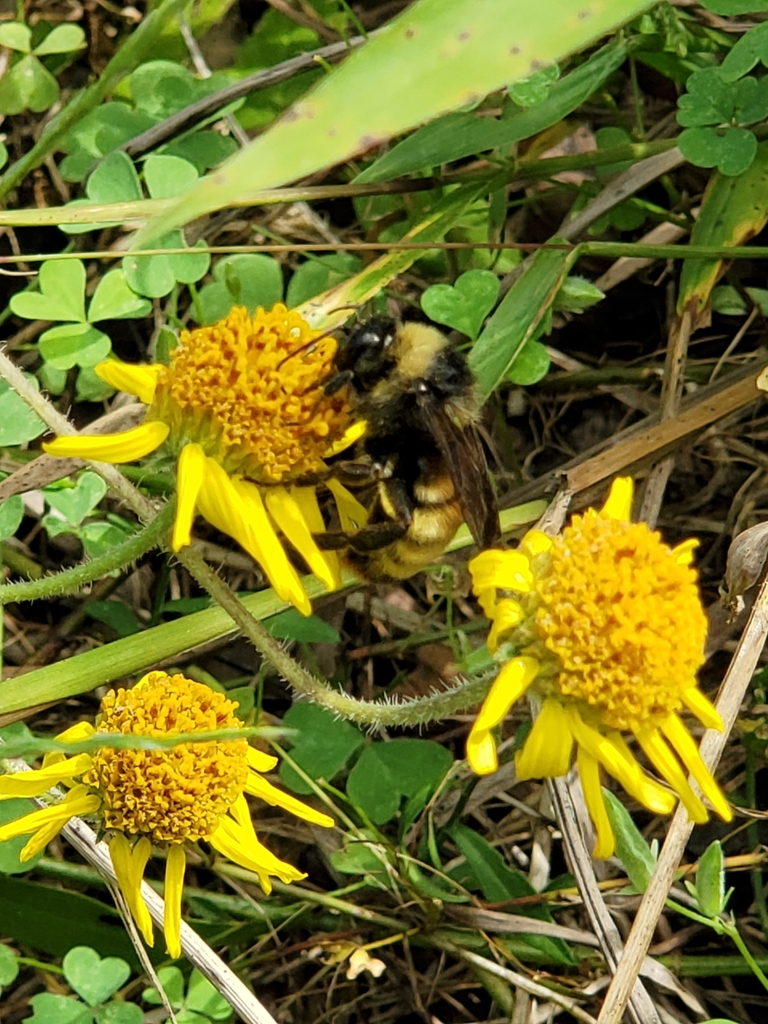bumblebee: (276, 299, 510, 586)
